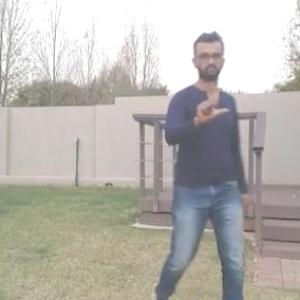land_hand: (190, 86, 233, 126)
